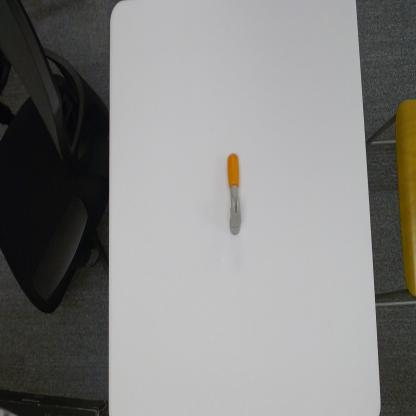Hammer: (226, 152, 243, 236)
